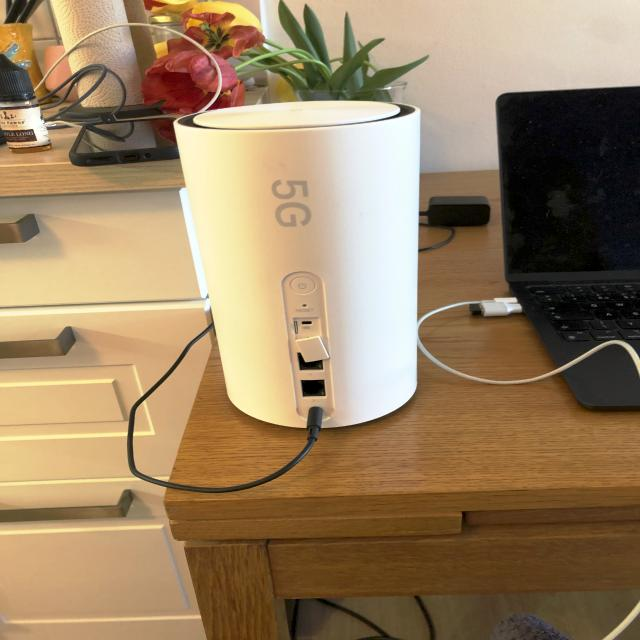lan: (299, 379, 328, 398)
modem: (174, 102, 424, 435)
onbutton: (289, 278, 316, 294)
powcab: (177, 406, 328, 502)
siminside: (292, 320, 302, 335)
